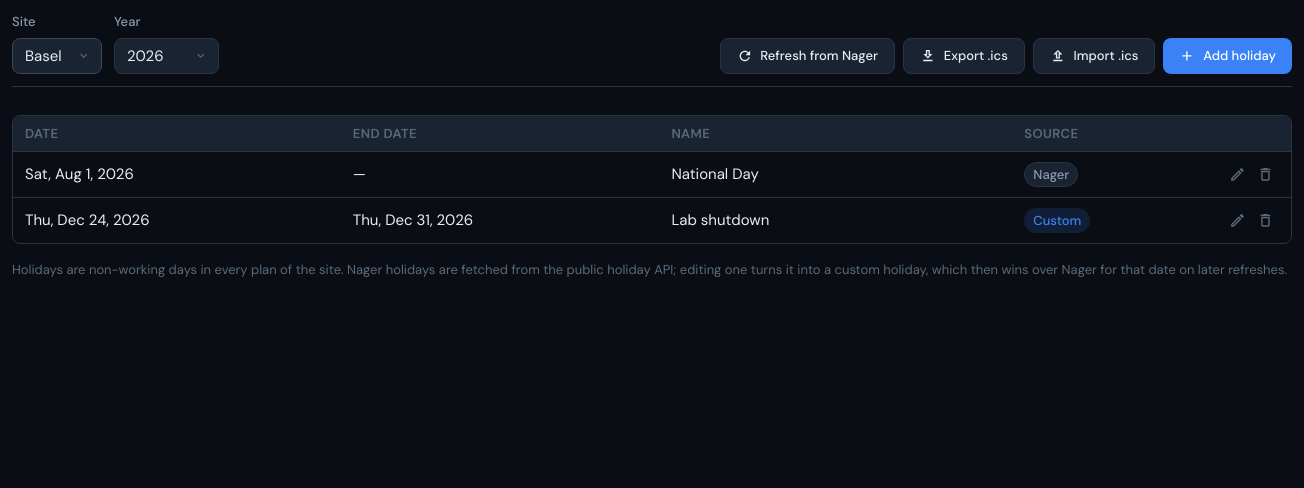
BankHolidaysPanel delete, refresh, export › deletes, closing the form of that holiday, and reports failures
Expected: the text "National Day" is shown, [659,152,1012,197]
Click the button named "Edit Lab shutdown" at (1237, 220), box [1223,206,1251,234]
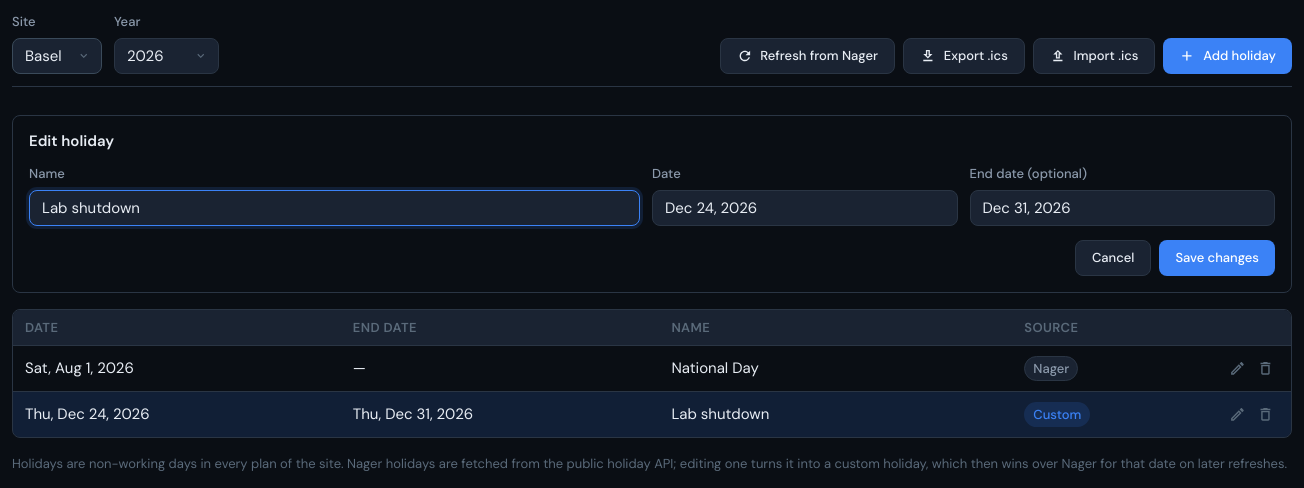
Click the button named "Delete Lab shutdown" at (1265, 414), box [1251,400,1279,428]
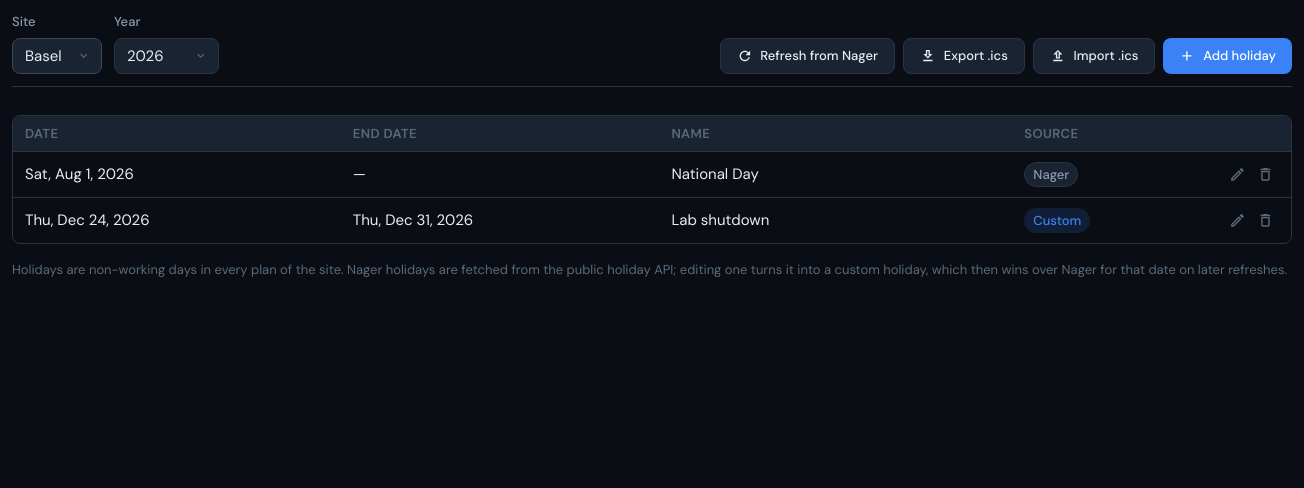
Now the heading "Edit holiday" is gone
Click the button named "Delete National Day" at (1265, 174), box [1251,160,1279,188]
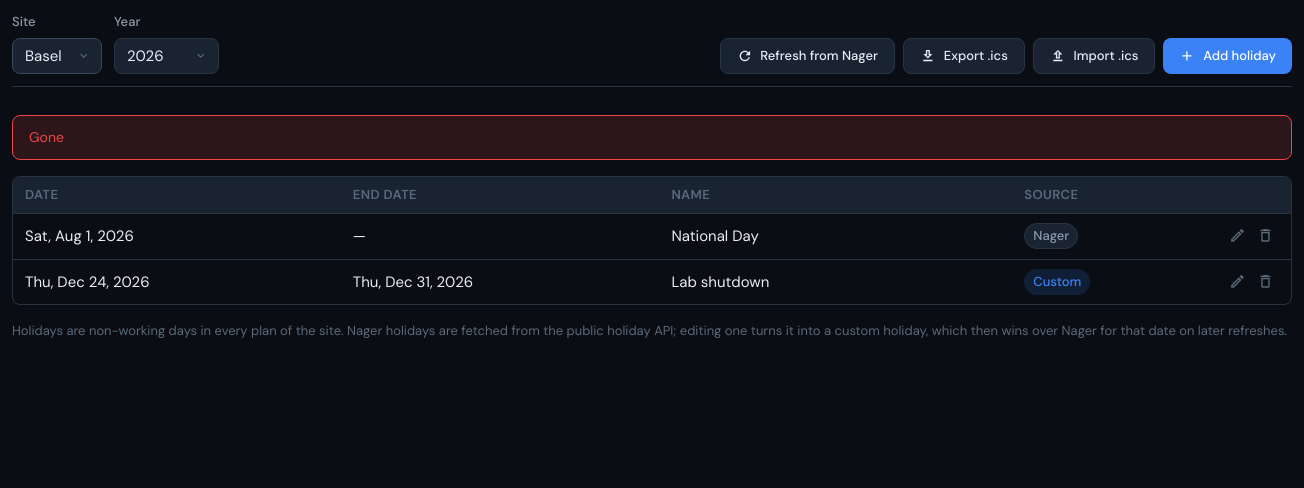
Now the message reads "Gone", box [29,128,64,146]
